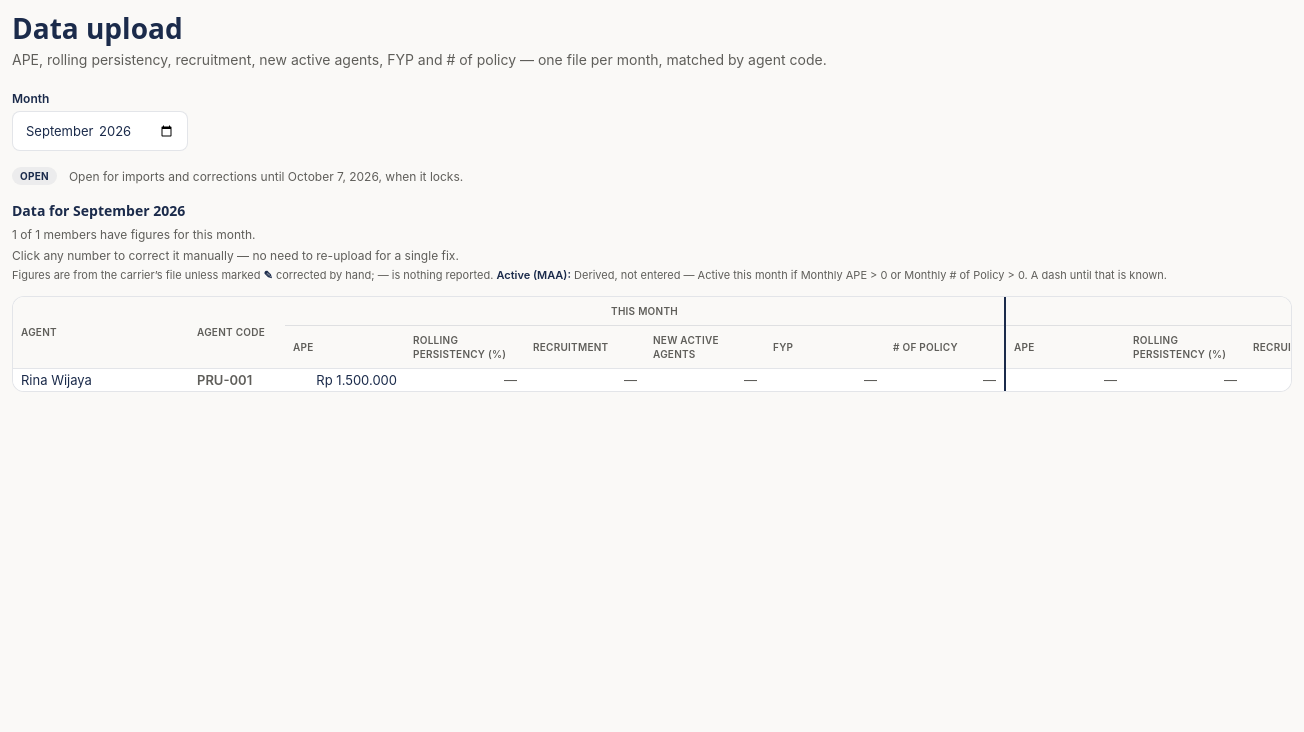
Data upload — correcting one figure (P9-T5) › shows a refusal about the month — it moved, or was locked — above the buttons
The width and height of the screenshot is (1304, 732).
Click the button with aria-label "Correct APE this month for Rina Wijaya, now Rp 1.500.000" at (357, 380), box [312,372,401,388]
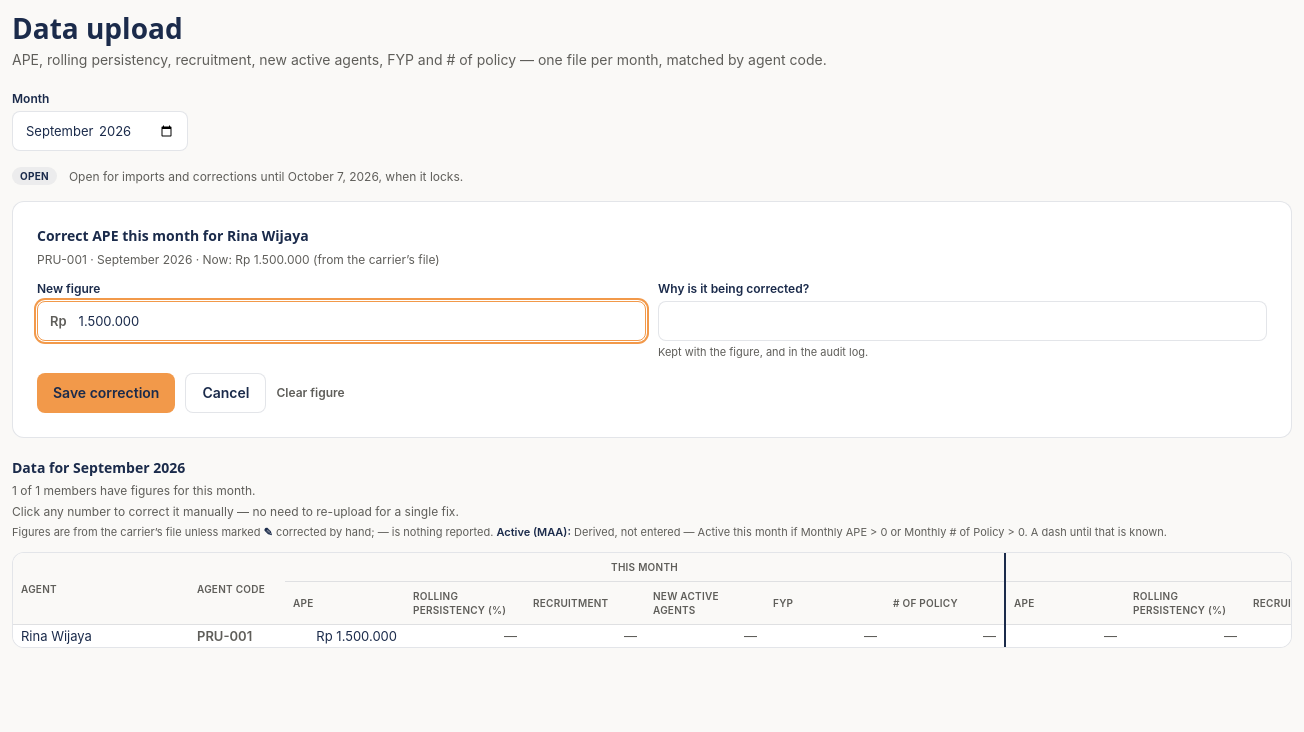
Type "x" into the field labelled "Why is it being corrected?" at (962, 321), box [658,301,1267,341]
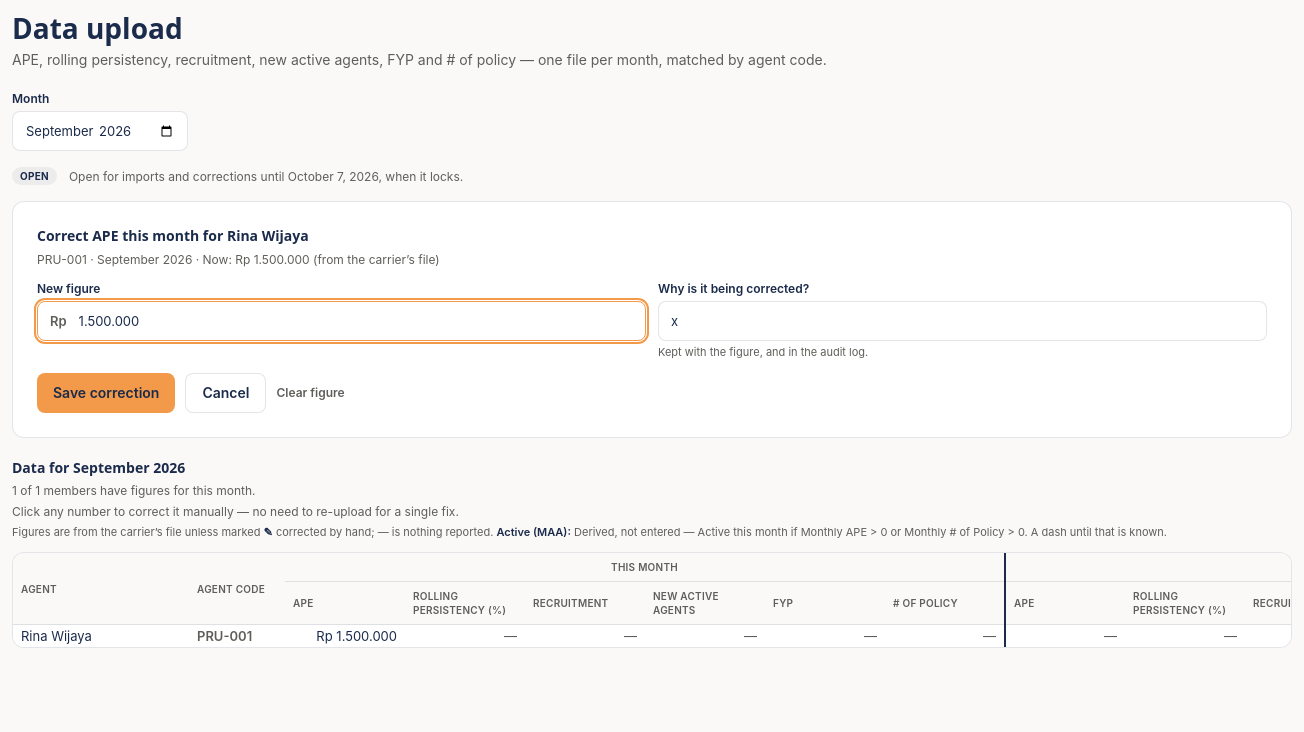
Click the button "Save correction" at (106, 393), box [37,373,175,413]
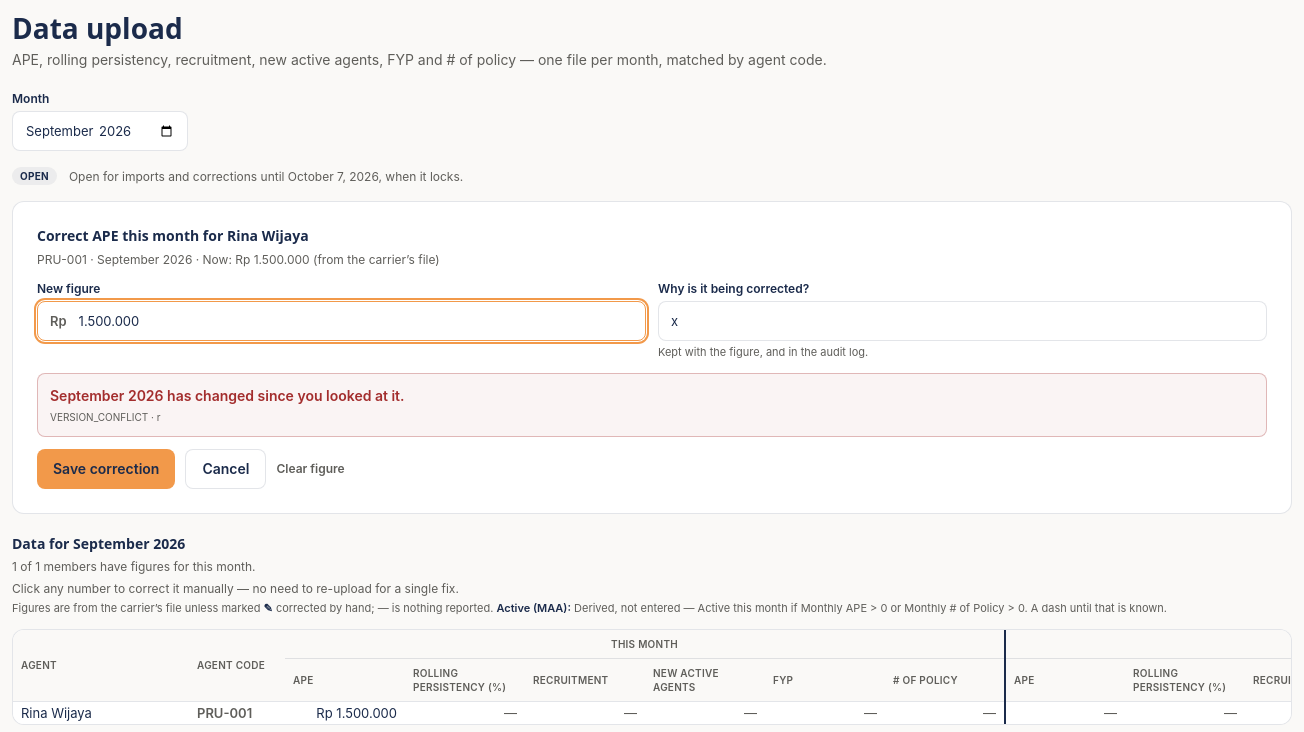
Now the text "September 2026 has changed since you looked at it." is shown, box [50,387,404,404]
